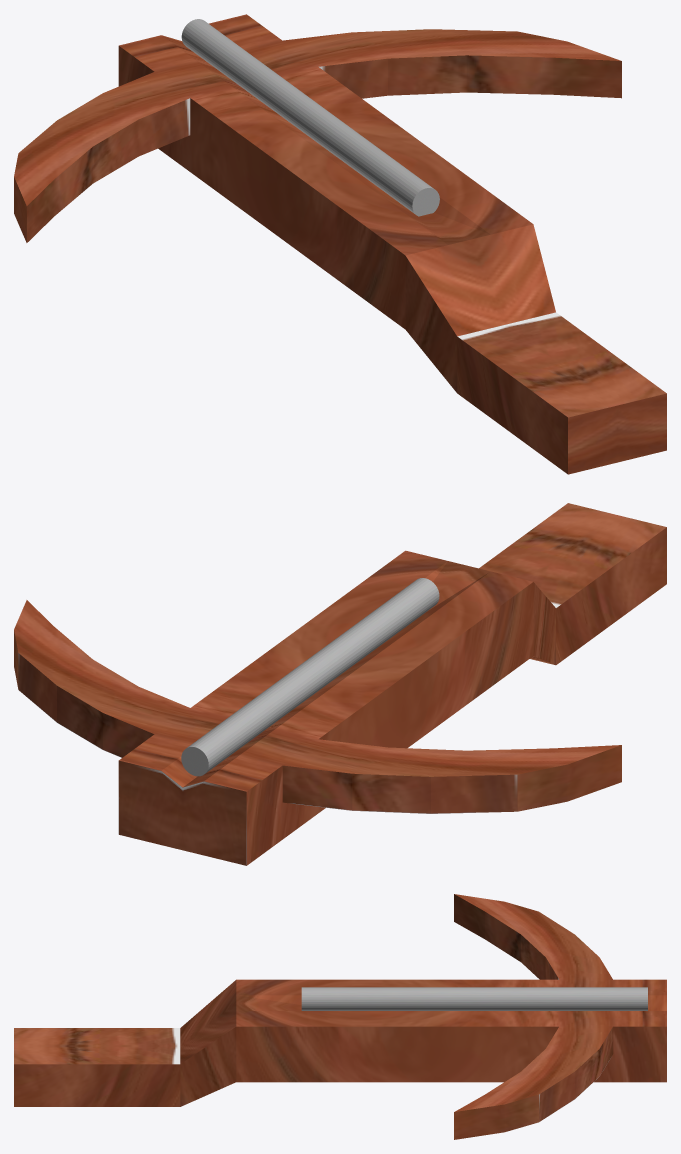
Rendered from crossbow.obj.
3 renders of one model, top to bottom at view 1: azimuth 30°, elevation 25°; view 2: azimuth 150°, elevation 25°; view 3: azimuth 270°, elevation 25°, orthographic. The views are drawn at different scales.
Visible parts, largest first — view 1: Crossbow_Shaft, Bolt_Cylinder; view 2: Crossbow_Shaft, Bolt_Cylinder; view 3: Crossbow_Shaft, Bolt_Cylinder.
Part boxes in pixels (bbox=[...]): Crossbow_Shaft: bbox=[14, 14, 666, 474]; Bolt_Cylinder: bbox=[181, 19, 439, 216]; Crossbow_Shaft: bbox=[14, 503, 666, 865]; Bolt_Cylinder: bbox=[181, 578, 439, 776]; Crossbow_Shaft: bbox=[14, 894, 666, 1139]; Bolt_Cylinder: bbox=[301, 987, 647, 1010].
Bounding box in the file's own units: 0.9515 × 0.2047 × 1.2.
Materials: 2 (2 with a texture image).
